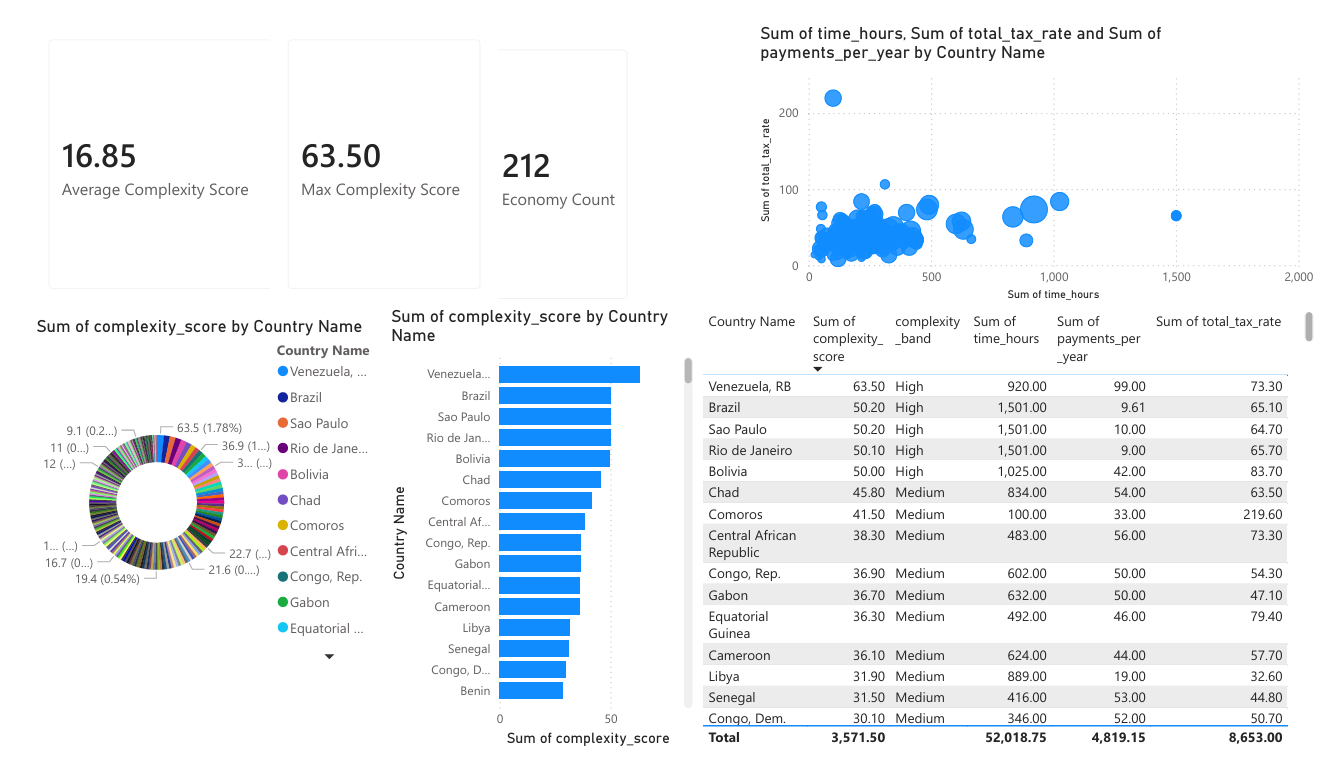

Layout of this report page (visuals, bound fields, positions):
{"tool":"powerbi","page":{"name":"Page 1","canvas":[1280,720],"ordinal":0},"visuals":[{"type":"cardVisual","fields":{"Data":["tax_complexity_dashboard_ready.Average Complexity Score"]},"box":[10,0,255.7,280],"z":0},{"type":"cardVisual","fields":{"Data":["tax_complexity_dashboard_ready.Economy Count"]},"box":[444.3,10,171.4,280],"z":1000},{"type":"cardVisual","fields":{"Data":["tax_complexity_dashboard_ready.Max Complexity Score"]},"box":[245.7,0,224.3,280],"z":2000},{"type":"donutChart","fields":{"Category":["tax_complexity_dashboard_ready.Country Name"],"Y":["Sum(tax_complexity_dashboard_ready.complexity_score)"]},"box":[10,290,348.6,348.6],"z":3000},{"type":"clusteredBarChart","fields":{"Category":["tax_complexity_dashboard_ready.Country Name"],"Y":["Sum(tax_complexity_dashboard_ready.complexity_score)"]},"box":[360,280,307.1,440],"z":4000},{"type":"tableEx","fields":{"Values":["tax_complexity_dashboard_ready.Country Name","Sum(tax_complexity_dashboard_ready.complexity_score)","tax_complexity_dashboard_ready.complexity_band","Sum(tax_complexity_dashboard_ready.time_hours)","Sum(tax_complexity_dashboard_ready.payments_per_year)","Sum(tax_complexity_dashboard_ready.total_tax_rate)"]},"box":[667.1,280,612.9,440],"z":5000},{"type":"scatterChart","fields":{"X":["Sum(tax_complexity_dashboard_ready.time_hours)"],"Y":["Sum(tax_complexity_dashboard_ready.total_tax_rate)"],"Size":["Sum(tax_complexity_dashboard_ready.payments_per_year)"],"Category":["tax_complexity_dashboard_ready.Country Name"]},"box":[724.3,0,555.7,280],"z":6000}]}

Visuals, with their boxes in screenshot pixels (x1, y1, x2, y2), scaled from the page's 1280x720 canvas onto the 1341x773 screenshot:
cardVisual - tax_complexity_dashboard_ready.Average Complexity Score: region(10, 0, 278, 301)
cardVisual - tax_complexity_dashboard_ready.Economy Count: region(465, 11, 645, 311)
cardVisual - tax_complexity_dashboard_ready.Max Complexity Score: region(257, 0, 492, 301)
donutChart - tax_complexity_dashboard_ready.Country Name x Sum(tax_complexity_dashboard_ready.complexity_score): region(10, 311, 376, 686)
clusteredBarChart - tax_complexity_dashboard_ready.Country Name x Sum(tax_complexity_dashboard_ready.complexity_score): region(377, 301, 699, 772)
tableEx - tax_complexity_dashboard_ready.Country Name x Sum(tax_complexity_dashboard_ready.complexity_score): region(699, 301, 1340, 772)
scatterChart - Sum(tax_complexity_dashboard_ready.time_hours) x Sum(tax_complexity_dashboard_ready.total_tax_rate): region(759, 0, 1340, 301)
